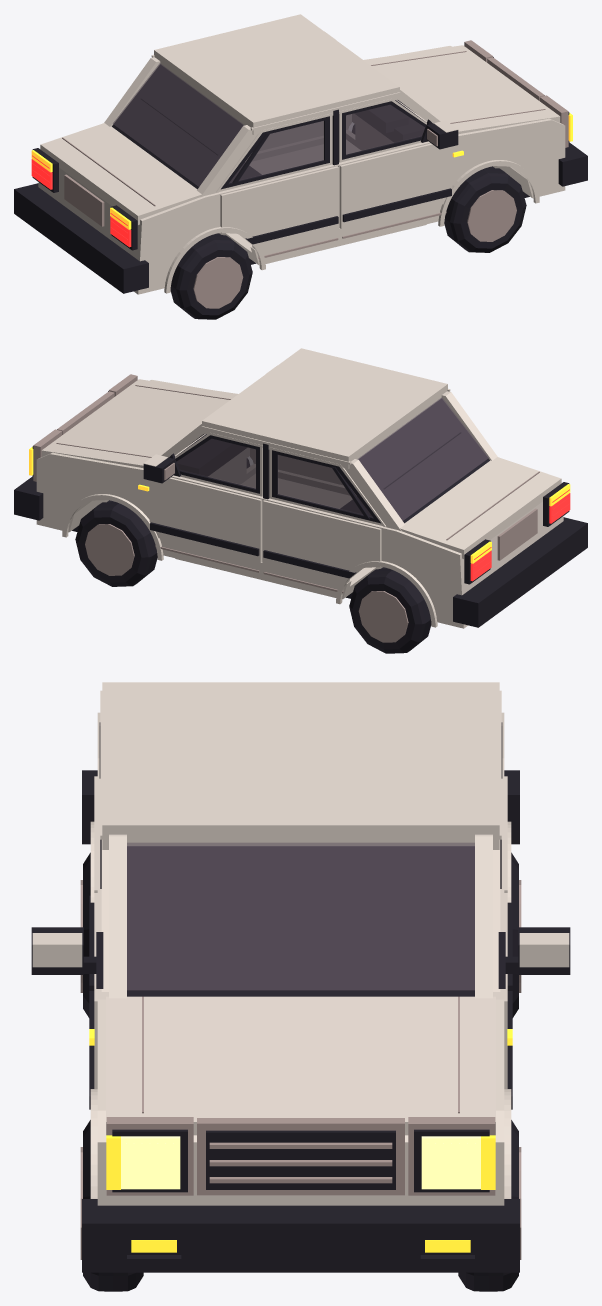
File: veh.sedan-white.lod1.glb
3 views of the same model, one above another, from view 1: azimuth 30°, elevation 25°; view 2: azimuth 150°, elevation 25°; view 3: azimuth 270°, elevation 25° (orthographic). The views are drawn at different scales.
Visible parts, largest first — view 1: body, object 8, wheelFL, wheelRL, lightsBrake; view 2: body, object 8, wheelFR, wheelRR, lightsBrake; view 3: body, object 8, lightsFront, wheelFL, wheelFR, wheelRL, wheelRR.
Boxes of the visible parts, bbox=[...] form: body: bbox=[38, 14, 565, 294]; object 8: bbox=[14, 31, 587, 293]; wheelFL: bbox=[444, 168, 526, 252]; wheelRL: bbox=[170, 234, 252, 319]; lightsBrake: bbox=[31, 150, 131, 247]; body: bbox=[36, 348, 563, 628]; object 8: bbox=[14, 365, 587, 627]; wheelFR: bbox=[75, 502, 157, 586]; wheelRR: bbox=[349, 568, 431, 653]; lightsBrake: bbox=[470, 484, 570, 581]; body: bbox=[90, 682, 511, 1205]; object 8: bbox=[31, 722, 570, 1272]; lightsFront: bbox=[106, 1129, 495, 1192]; wheelFL: bbox=[80, 1120, 143, 1291]; wheelFR: bbox=[458, 1120, 521, 1291]; wheelRL: bbox=[80, 852, 90, 1017]; wheelRR: bbox=[511, 852, 521, 1017].
Bounding box in the file's own units: 4.75 × 1.83 × 2.39.
